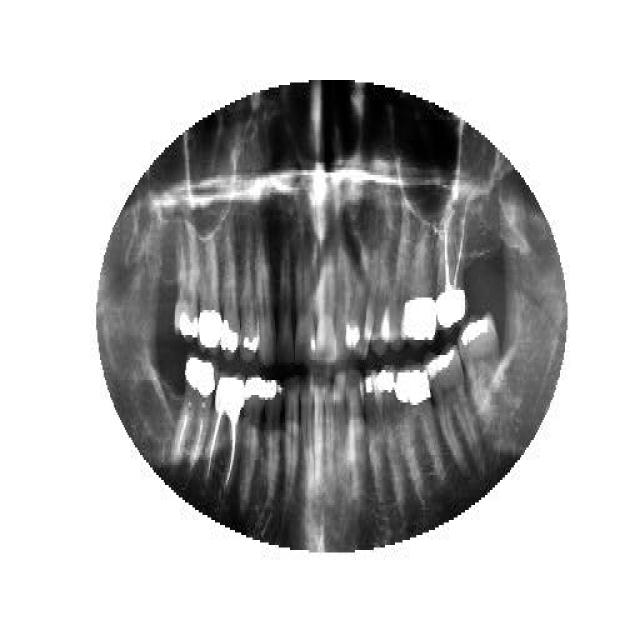Fillings: (428, 345, 482, 483), (395, 362, 445, 498), (458, 308, 510, 422), (402, 212, 440, 350), (172, 355, 212, 467), (375, 365, 404, 515), (174, 215, 200, 350), (261, 372, 285, 508), (241, 370, 264, 508), (199, 235, 220, 355), (221, 240, 241, 358), (240, 237, 258, 365)
Implant: (210, 365, 244, 497), (435, 203, 467, 335)
